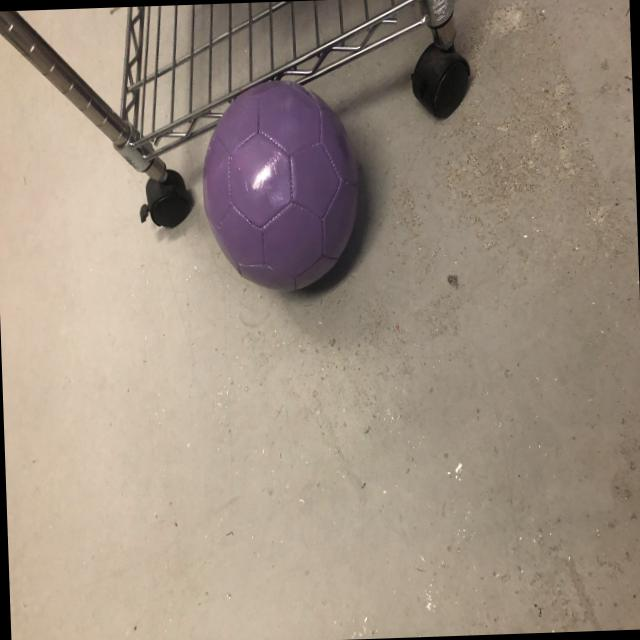purple_ball: (198, 78, 362, 296)
